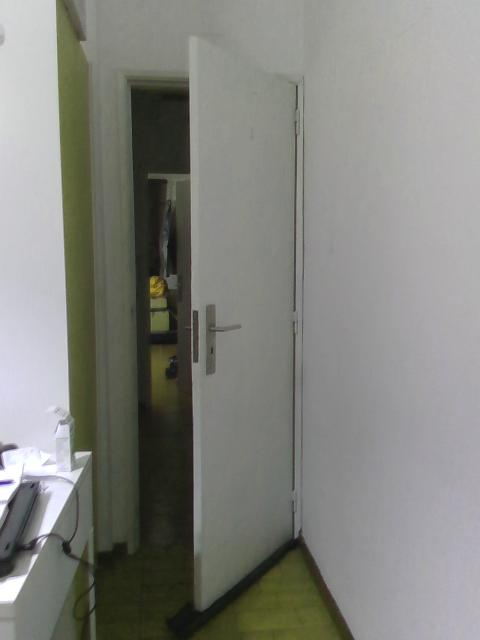semi_door: (111, 31, 301, 614)
